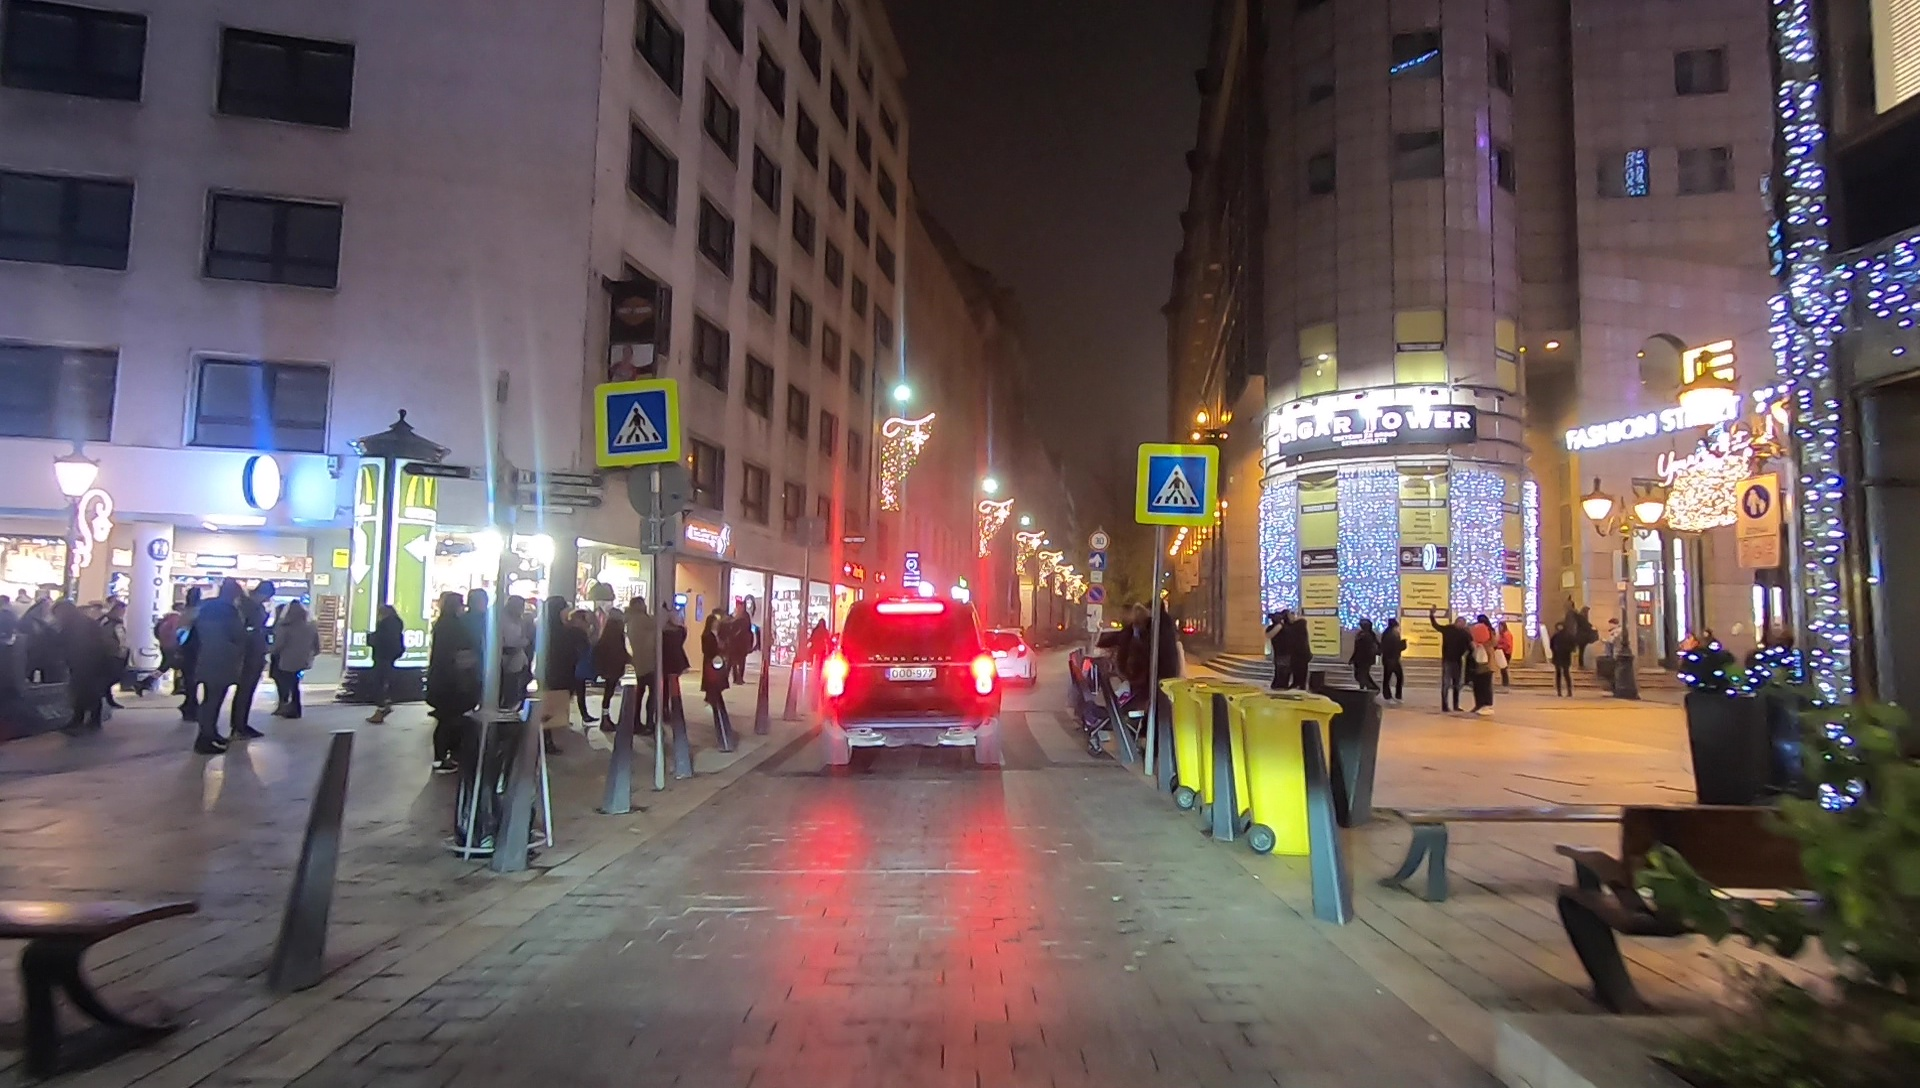person: (198, 581, 240, 755), (1140, 598, 1189, 739), (54, 599, 106, 733), (430, 589, 465, 770), (535, 594, 575, 753), (231, 577, 268, 742), (133, 598, 184, 701), (275, 599, 319, 719), (499, 592, 528, 763), (465, 583, 492, 760), (365, 600, 399, 728), (626, 594, 654, 735), (1429, 608, 1467, 712), (599, 599, 626, 735), (98, 600, 129, 711), (699, 611, 728, 717), (662, 599, 686, 719), (1468, 613, 1494, 717), (1286, 605, 1313, 704), (1383, 616, 1410, 704), (1266, 610, 1288, 713), (1351, 619, 1380, 699), (730, 599, 754, 685), (1553, 622, 1573, 697), (1498, 619, 1513, 686)
